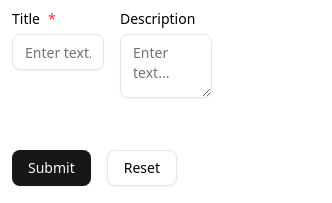
Test: FormBuilder › should prevent submission required fields are not filled
Click the button "Submit": (51, 168) [12,150,91,186]
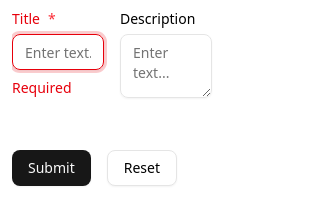
Check: the text "Required" is shown, box [12,78,72,97]
